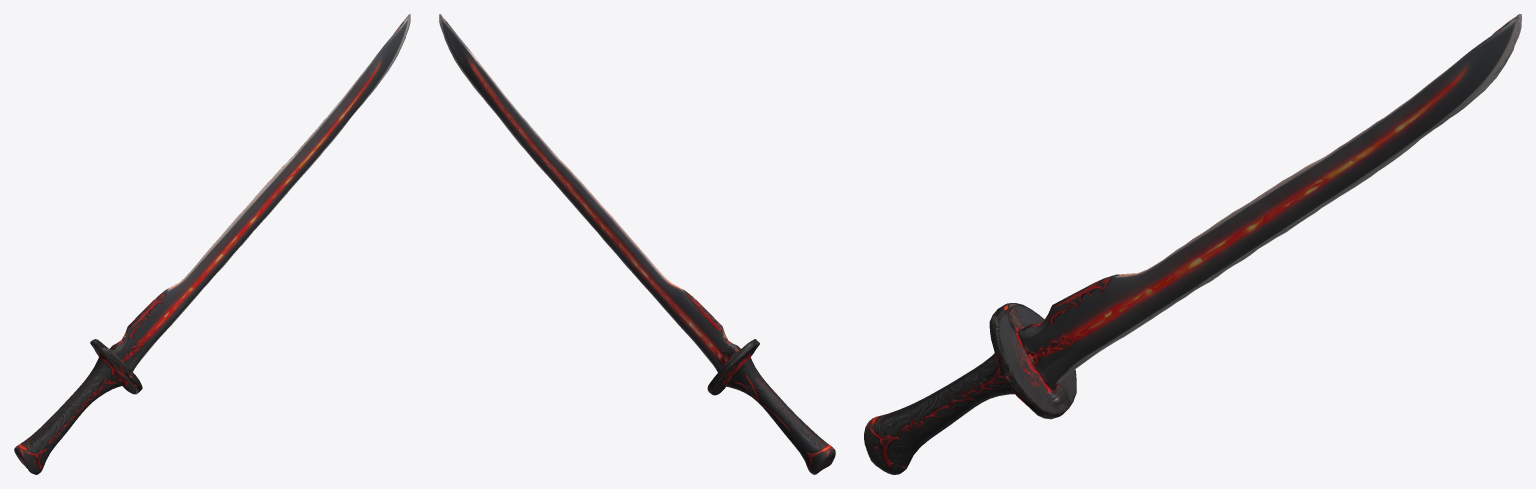
The model's file is Luminous_Blade_1129130321_texture.fbx.
The picture shows the model from 3 angles, left to right: view 1: azimuth 30°, elevation 25°; view 2: azimuth 150°, elevation 25°; view 3: azimuth 330°, elevation 25°; orthographic projection. The views are drawn at different scales.
Parts seen in each view (by area): view 1: Mesh0; view 2: Mesh0; view 3: Mesh0.
Part boxes in pixels (<box>): Mesh0: <box>14,14,410,474</box>; Mesh0: <box>439,14,835,474</box>; Mesh0: <box>864,14,1521,474</box>.
Bounding box in the file's own units: 78.23 × 70 × 10.82.
Materials: 1 (1 with a texture image).
